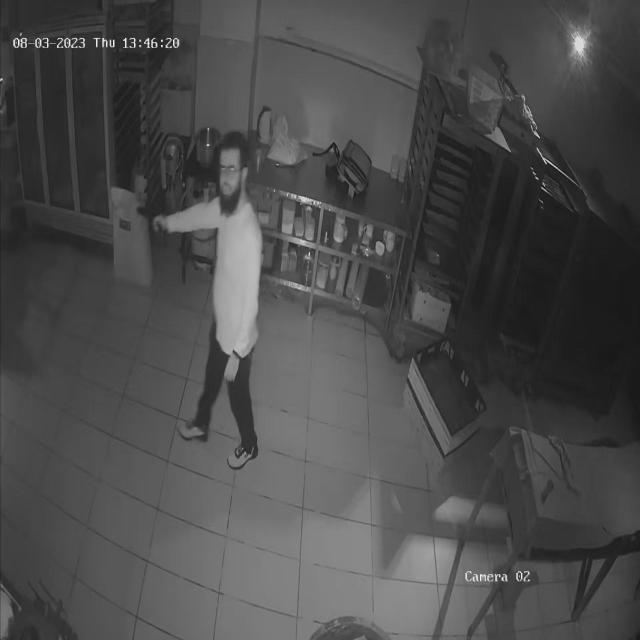Gun: (128, 192, 180, 238)
